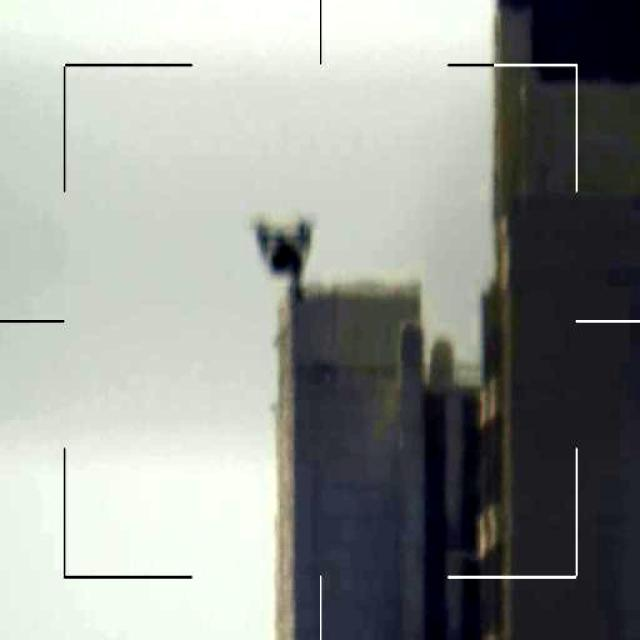bird: (249, 216, 315, 305)
